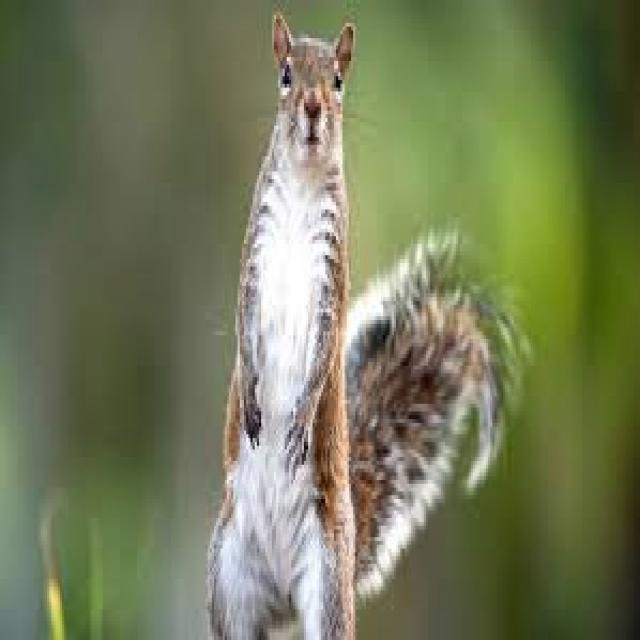squirrel: (208, 15, 514, 636)
